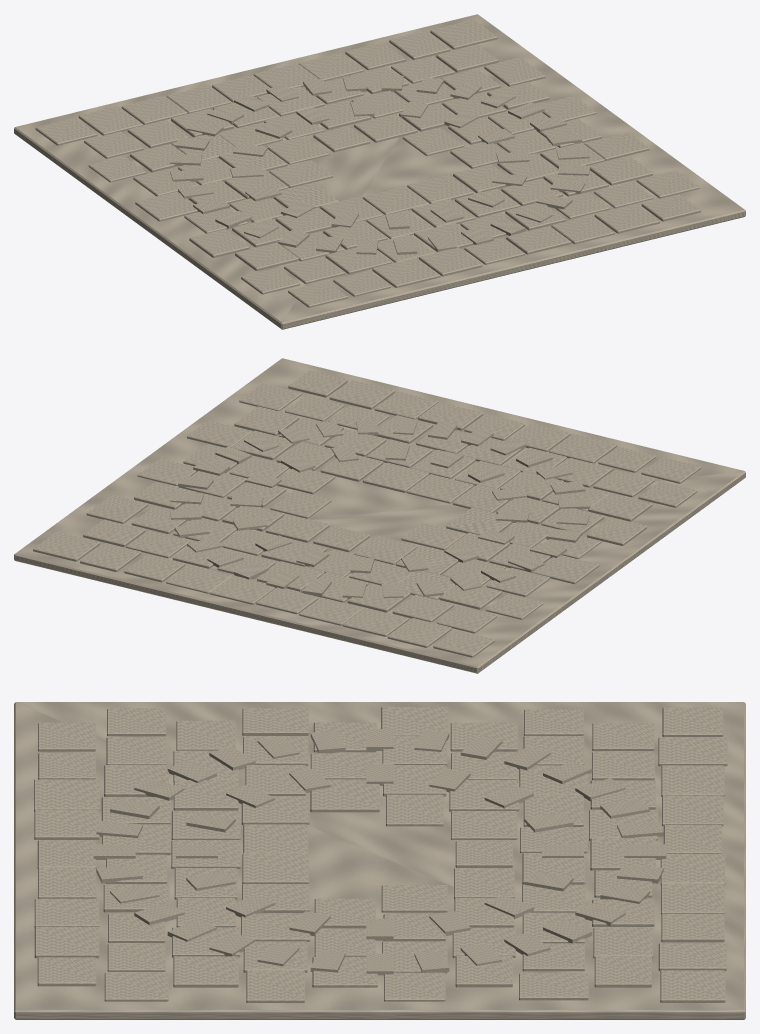
The model's file is fantasy-mmo-city-and-townsfolk-market-plaza-tile-b62327ed__32722.glb.
The picture shows the model from 3 angles, top to bottom: view 1: azimuth 30°, elevation 25°; view 2: azimuth 150°, elevation 25°; view 3: azimuth 270°, elevation 25°; orthographic projection. The views are drawn at different scales.
Parts seen in each view (by area): view 1: market-plaza-tile; view 2: market-plaza-tile; view 3: market-plaza-tile.
Boxes of the visible parts, box(x1,y1,x2,y2) form: market-plaza-tile: box(14, 14, 745, 329); market-plaza-tile: box(14, 358, 745, 673); market-plaza-tile: box(14, 702, 745, 1019).
Size of the model in its own units: 8 by 0.1904 by 8.
1 material, 1 textured.
